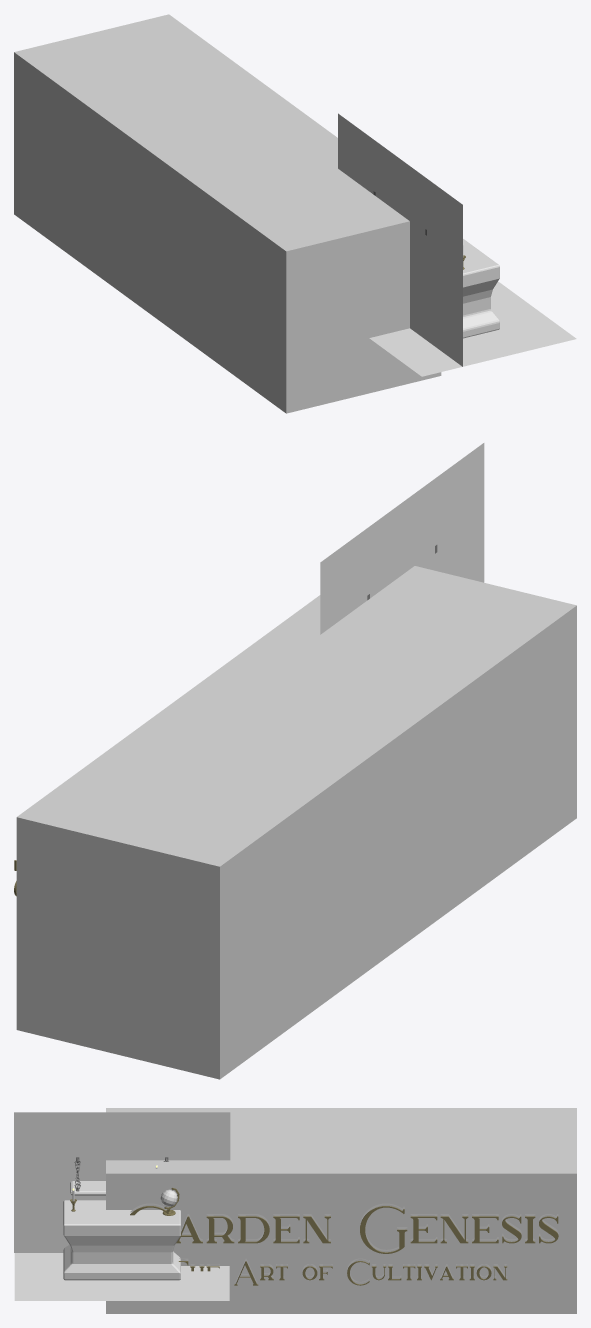
The model's file is GameJam2023 (1).fbx.
3 renders of one model, top to bottom at view 1: azimuth 30°, elevation 25°; view 2: azimuth 150°, elevation 25°; view 3: azimuth 270°, elevation 25°, orthographic. The views are drawn at different scales.
Parts seen in each view (by area): view 1: Cube, Wall, Plane, Workbench; view 2: Cube, Wall; view 3: Cube, Wall, Workbench, Plane, Text, Text.001, Text.002, Text.003, Shelf.
Part boxes in pixels (box(x1,y1,x2,y2)): Cube: box(14, 14, 441, 413); Wall: box(338, 113, 462, 366); Plane: box(369, 281, 576, 376); Workbench: box(463, 239, 499, 338); Cube: box(16, 566, 576, 1079); Wall: box(320, 443, 484, 634); Cube: box(106, 1108, 576, 1313); Wall: box(14, 1112, 230, 1252); Workbench: box(63, 1200, 180, 1280); Plane: box(14, 1253, 229, 1300); Text: box(130, 1206, 558, 1253); Text.001: box(178, 1261, 507, 1285); Text.002: box(130, 1203, 558, 1250); Text.003: box(179, 1258, 506, 1282); Shelf: box(70, 1181, 105, 1195).
Bounding box in the file's own units: 307 × 268 × 727.
